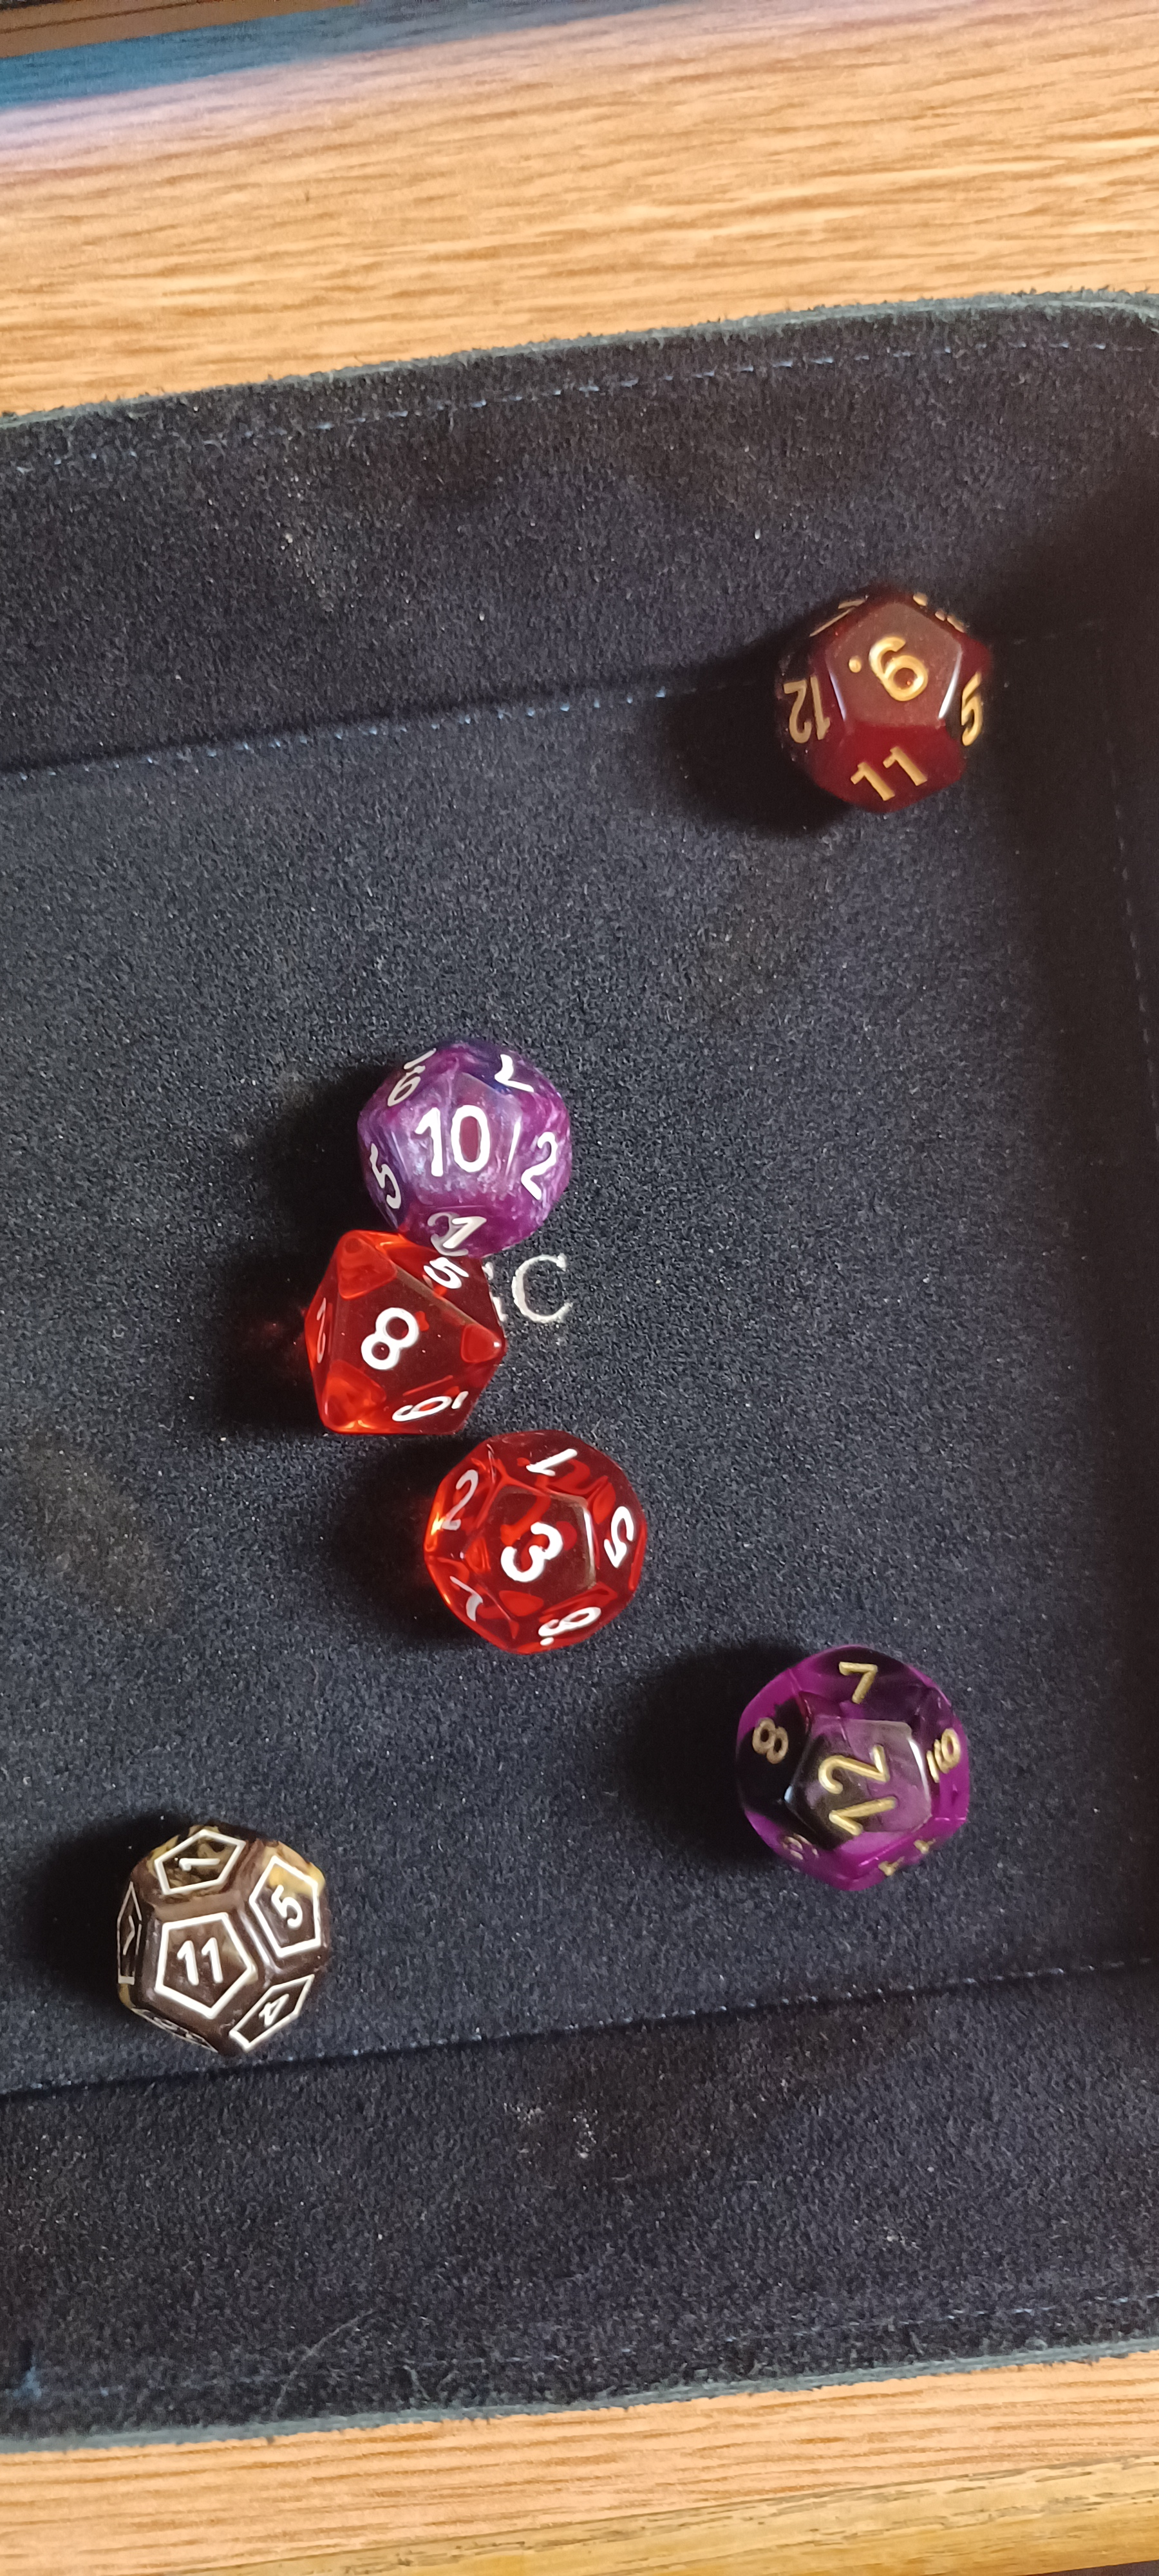eight: (241, 1181, 527, 1447)
eleven: (46, 1794, 448, 2108)
nine: (740, 542, 1031, 843)
ten: (317, 996, 619, 1268)
three: (404, 1408, 693, 1666)
twelve: (685, 1621, 1023, 1909)
